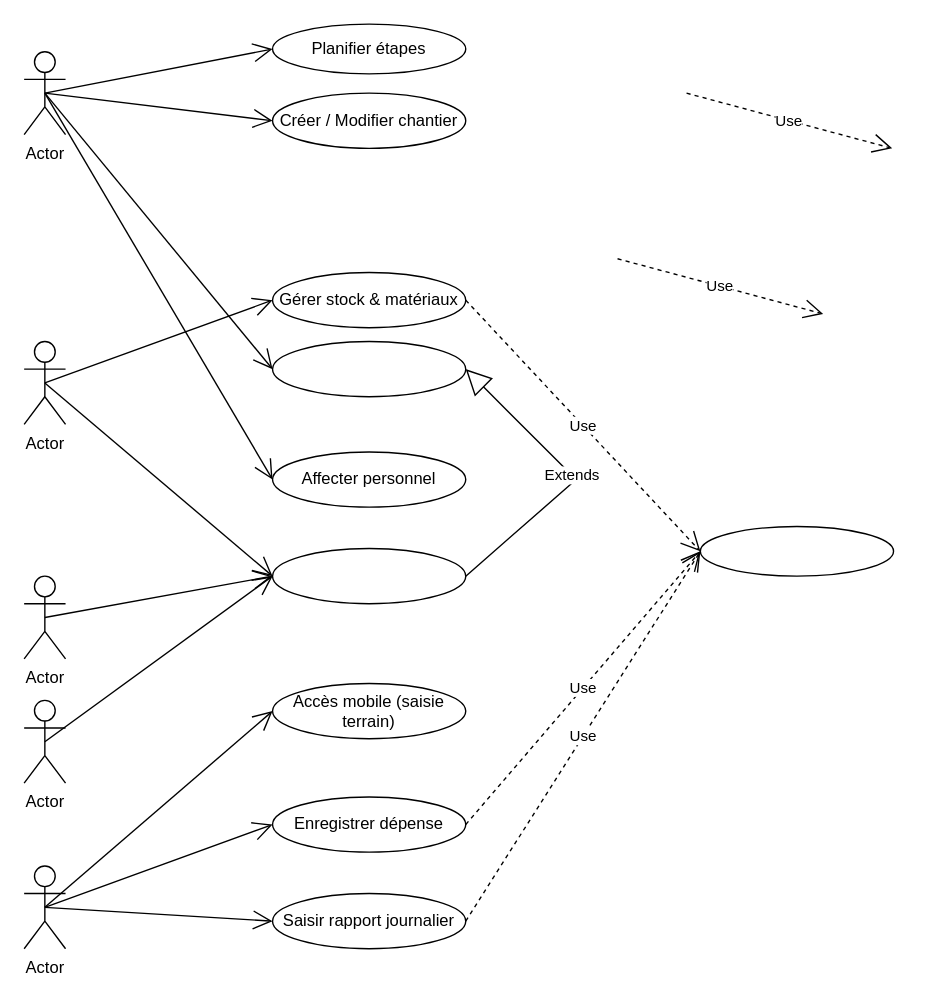
The diagram is 936 pixels wide and 1002 high, and some of its shapes have lost their labels. The centre of each missing label's shape, as x and y in pixels:
Consulter tableau de bord: point 368,575
Générer / Exporter rapports: point 368,368
Notification: point 796,550
